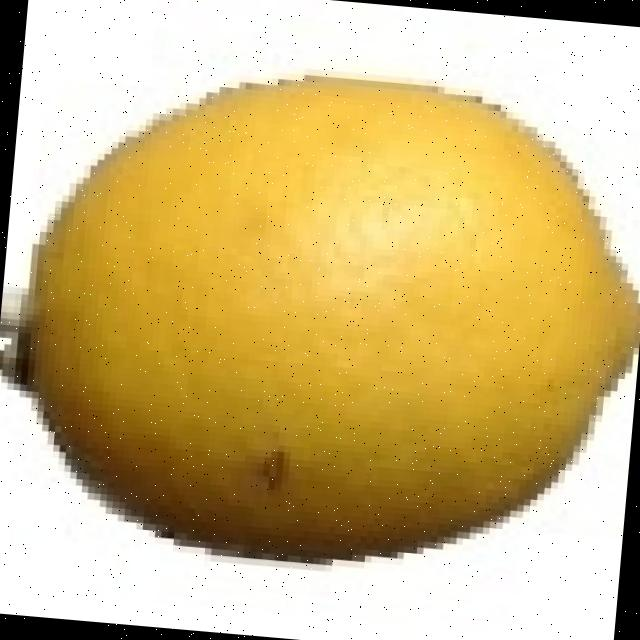lemon: (18, 79, 640, 559)
